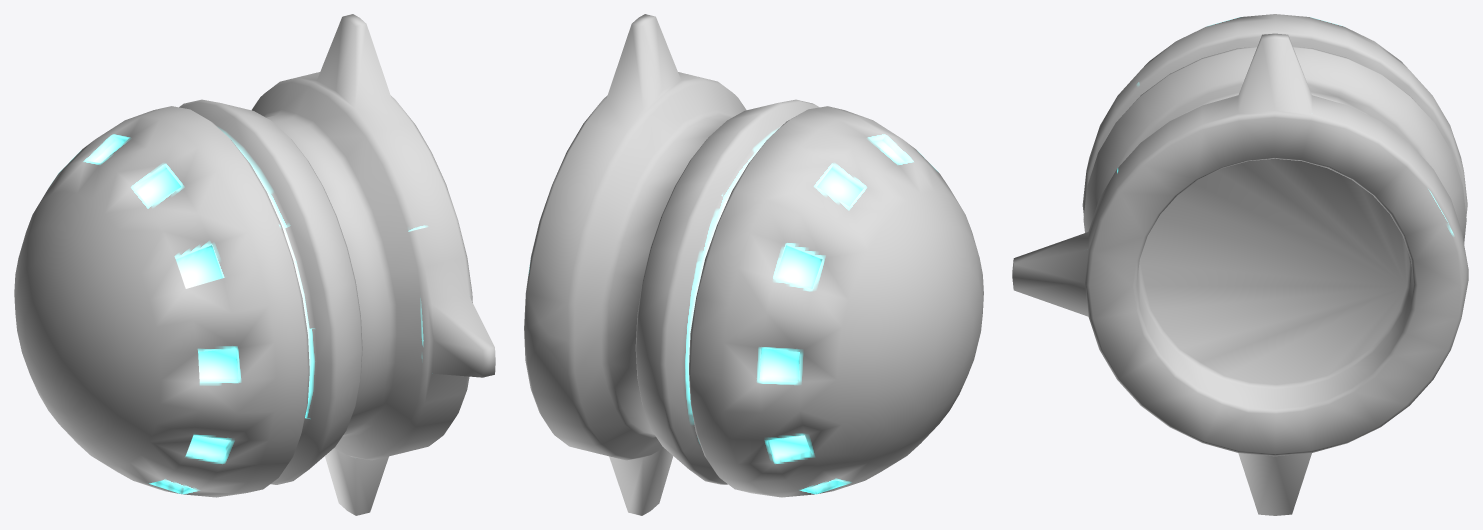
Rendered from End Cap (1).fbx.
The picture shows the model from 3 angles, left to right: view 1: azimuth 30°, elevation 25°; view 2: azimuth 150°, elevation 25°; view 3: azimuth 270°, elevation 25°; orthographic projection. The views are drawn at different scales.
Visible parts, largest first — view 1: Sphere.001; view 2: Sphere.001; view 3: Sphere.001.
Boxes of the visible parts, x1=… form: Sphere.001: x1=14, y1=14, x2=495, y2=515; Sphere.001: x1=524, y1=14, x2=983, y2=515; Sphere.001: x1=1012, y1=14, x2=1468, y2=515.
Size of the model in its own units: 14.25 by 19.73 by 17.12.
